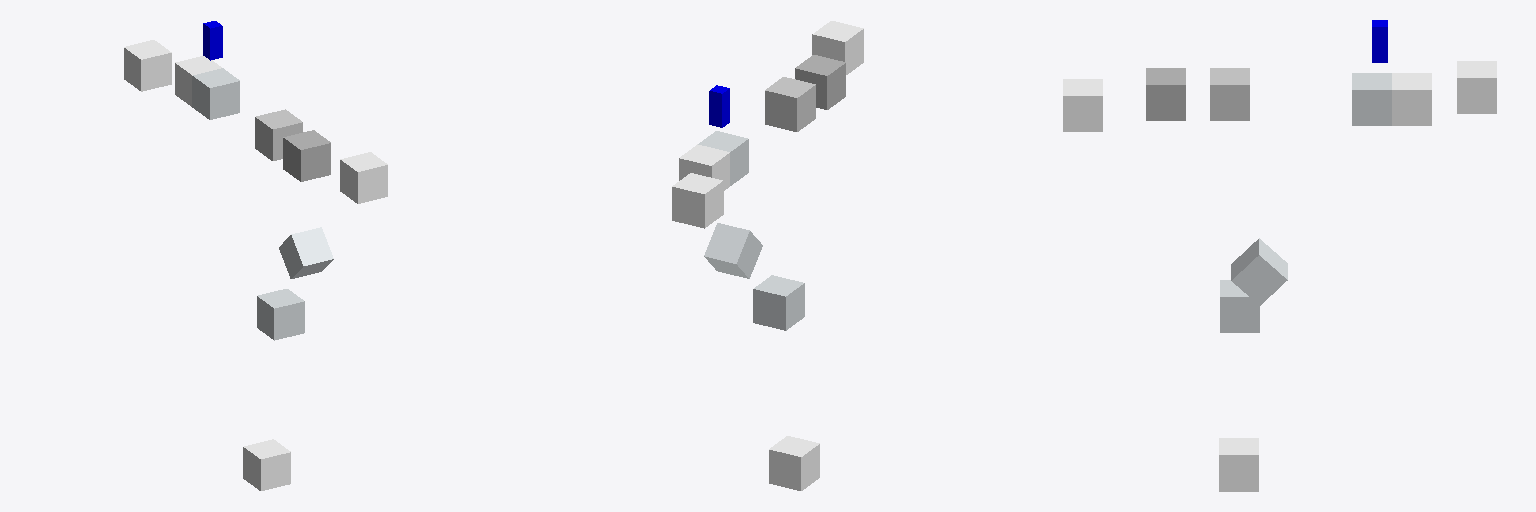
URDF robot description (wust_seven_axis_arm_description):
<?xml version="1.0" encoding="utf-8"?>
<!-- This URDF was automatically created by SolidWorks to URDF Exporter! Originally created by Stephen Brawner (brawner@gmail.com) 
     Commit Version: 1.6.0-4-g7f85cfe  Build Version: 1.6.7995.38578
     For more information, please see http://wiki.ros.org/sw_urdf_exporter -->
<robot
  name="wust_seven_axis_arm_description">
  <link
    name="base_link">
    <inertial>
      <origin
        xyz="0.022966 -0.114 -0.178491"
        rpy="0 0 0" />
      <mass
        value="77.643" />
      <inertia
        ixx="2.5225"
        ixy="9.3836E-17"
        ixz="7.3364E-17"
        iyy="4.4493"
        iyz="9.0781E-17"
        izz="2.5996" />
    </inertial>
    <visual>
      <origin
        xyz="0 0 -0.23"
        rpy="0 0 0" />
      <geometry>
        <box size="0.05 0.05 0.05"/>
      </geometry>
      <material
        name="">
        <color
          rgba="1 1 1 1" />
      </material>
    </visual>
    <collision>
      <origin
        xyz="0 0 -0.23"
        rpy="0 0 0" />
      <geometry>
        <box size="0.05 0.05 0.05"/>
      </geometry>
    </collision>
  </link>
  <link
    name="LINK1">
    <inertial>
      <origin
        xyz="-0.026552 0.004322 0.047909"
        rpy="0 0 0" />
      <mass
        value="1.1303" />
      <inertia
        ixx="0.0010196"
        ixy="-3.0364E-05"
        ixz="5.3201E-05"
        iyy="0.0020387"
        iyz="-1.8449E-08"
        izz="0.0018577" />
    </inertial>
    <visual>
      <origin
        xyz="0 0 0"
        rpy="0 0 0" />
      <geometry>
        <box size="0.05 0.05 0.05"/>
      </geometry>
      <material
        name="">
        <color
          rgba="0.89804 0.91765 0.92941 1" />
      </material>
    </visual>
    <collision>
      <origin
        xyz="0 0 0"
        rpy="0 0 0" />
      <geometry>
        <box size="0.05 0.05 0.05"/>
      </geometry>
    </collision>
  </link>
  <joint
    name="joint1"
    type="revolute">
    <origin
      xyz="0.022966 0.0012471 0"
      rpy="0 0 1.5708" />
    <parent
      link="base_link" />
    <child
      link="LINK1" />
    <axis
      xyz="0 0 1" />
    <limit
      lower="-3.14"
      upper="3.14"
      effort="80"
      velocity="3.14" />
  </joint>
  <link
    name="LINK2">
    <inertial>
      <origin
        xyz="0.16906 -0.0066264 -0.00043466"
        rpy="0 0 0" />
      <mass
        value="1.9471" />
      <inertia
        ixx="0.0013615"
        ixy="4.8371E-05"
        ixz="3.9307E-05"
        iyy="0.005887"
        iyz="7.7012E-09"
        izz="0.0068802" />
    </inertial>
    <visual>
      <origin
        xyz="0 0 0"
        rpy="0 0 0" />
      <geometry>
        <box size="0.05 0.05 0.05"/>
      </geometry>
      <material
        name="">
        <color
          rgba="0.89804 0.91765 0.92941 1" />
      </material>
    </visual>
    <collision>
      <origin
        xyz="0 0 0"
        rpy="0 0 0" />
      <geometry>
        <box size="0.05 0.05 0.05"/>
      </geometry>
    </collision>
  </link>
  <joint
    name="joint2"
    type="revolute">
    <origin
      xyz="0.024226 -0.0557 0.073"
      rpy="1.5708 -0.77059 3.1416" />
    <parent
      link="LINK1" />
    <child
      link="LINK2" />
    <axis
      xyz="0 0 1" />
    <limit
      lower="-3.14"
      upper="3.14"
      effort="40"
      velocity="3.14" />
  </joint>
  <link
    name="LINK3">
    <inertial>
      <origin
        xyz="0.014466 0.09077 -0.077009"
        rpy="0 0 0" />
      <mass
        value="1.4032" />
      <inertia
        ixx="0.0014059"
        ixy="-3.2931E-05"
        ixz="-1.2576E-06"
        iyy="0.0019115"
        iyz="2.0188E-06"
        izz="0.0014793" />
    </inertial>
    <visual>
      <origin
        xyz="0 0 0"
        rpy="0 0 0" />
      <geometry>
        <box size="0.05 0.05 0.05"/>
      </geometry>
      <material
        name="">
        <color
          rgba="1 1 1 1" />
      </material>
    </visual>
    <collision>
      <origin
        xyz="0 0 0"
        rpy="0 0 0" />
      <geometry>
        <box size="0.05 0.05 0.05"/>
      </geometry>
    </collision>
  </link>
  <joint
    name="joint3"
    type="revolute">
    <origin
      xyz="0.308 0 0.0328"
      rpy="-3.1416 0 2.371" />
    <parent
      link="LINK2" />
    <child
      link="LINK3" />
    <axis
      xyz="0 0 1" />
    <limit
      lower="-3.14"
      upper="3.14"
      effort="2.5"
      velocity="3.14" />
  </joint>
  <link
    name="LINK4">
    <inertial>
      <origin
        xyz="-5.508E-06 -0.00055068 0.027375"
        rpy="0 0 0" />
      <mass
        value="0.43034" />
      <inertia
        ixx="0.00013372"
        ixy="1.1612E-08"
        ixz="-5.5872E-08"
        iyy="0.00016472"
        iyz="4.4027E-08"
        izz="0.00015709" />
    </inertial>
    <visual>
      <origin
        xyz="0 0 0"
        rpy="0 0 0" />
      <geometry>
        <box size="0.05 0.05 0.05"/>
      </geometry>
      <material
        name="">
        <color
          rgba="0.75294 0.75294 0.75294 1" />
      </material>
    </visual>
    <collision>
      <origin
        xyz="0 0 0"
        rpy="0 0 0" />
      <geometry>
        <box size="0.05 0.05 0.05"/>
      </geometry>
    </collision>
  </link>
  <joint
    name="joint4"
    type="revolute">
    <origin
      xyz="0.104 0 -0.033"
      rpy="1.5708 0 1.5708" />
    <parent
      link="LINK3" />
    <child
      link="LINK4" />
    <axis
      xyz="0 0 1" />
    <limit
      lower="-3.14"
      upper="3.14"
      effort="2.5"
      velocity="3.14" />
  </joint>
  <link
    name="LINK5">
    <inertial>
      <origin
        xyz="0.070446 0.0035509 -0.0055136"
        rpy="0 0 0" />
      <mass
        value="0.47533" />
      <inertia
        ixx="0.00016986"
        ixy="-1.6752E-05"
        ixz="1.3562E-06"
        iyy="0.00043792"
        iyz="1.0511E-08"
        izz="0.0004231" />
    </inertial>
    <visual>
      <origin
        xyz="0 0 0"
        rpy="0 0 0" />
      <geometry>
        <box size="0.05 0.05 0.05"/>
      </geometry>
      <material
        name="">
        <color
          rgba="0.84706 0.84706 0.84706 1" />
      </material>
    </visual>
    <collision>
      <origin
        xyz="0 0 0"
        rpy="0 0 0" />
      <geometry>
        <box size="0.05 0.05 0.05"/>
      </geometry>
    </collision>
  </link>
  <joint
    name="joint5"
    type="revolute">
    <origin
      xyz="0 0 0.08"
      rpy="1.5708 -1.5708 0" />
    <parent
      link="LINK4" />
    <child
      link="LINK5" />
    <axis
      xyz="0 0 1" />
    <limit
      lower="-3.14"
      upper="3.14"
      effort="2.5"
      velocity="3.14" />
  </joint>
  <link
    name="LINK6">
    <inertial>
      <origin
        xyz="5.2854E-05 -0.029295 -0.0065583"
        rpy="0 0 0" />
      <mass
        value="0.27211" />
      <inertia
        ixx="0.0001518"
        ixy="3.525E-08"
        ixz="6.9829E-09"
        iyy="0.00016171"
        iyz="6.8965E-07"
        izz="0.00011201" />
    </inertial>
    <visual>
      <origin
        xyz="0 0 0"
        rpy="0 0 0" />
      <geometry>
        <box size="0.05 0.05 0.05"/>
      </geometry>
      <material
        name="">
        <color
          rgba="0.89804 0.91765 0.92941 1" />
      </material>
    </visual>
    <collision>
      <origin
        xyz="0 0 0"
        rpy="0 0 0" />
      <geometry>
        <box size="0.05 0.05 0.05"/>
      </geometry>
    </collision>
  </link>
  <joint
    name="joint6"
    type="revolute">
    <origin
      xyz="0.178 0.0073 0"
      rpy="1.5708 -1.5708 3.14159" />
    <parent
      link="LINK5" />
    <child
      link="LINK6" />
    <axis
      xyz="0 0 1" />
    <limit
      lower="-3.14"
      upper="3.14"
      effort="2.5"
      velocity="3.14" />
  </joint>
  <link
    name="LINK7">
    <inertial>
      <origin
        xyz="2.4977E-05 -3.5319E-06 0.022282"
        rpy="0 0 0" />
      <mass
        value="0.21341" />
      <inertia
        ixx="2.1719E-05"
        ixy="3.2824E-10"
        ixz="-7.9769E-09"
        iyy="7.1028E-05"
        iyz="-6.2441E-11"
        izz="8.0769E-05" />
    </inertial>
    <visual>
      <origin
        xyz="0 0 0"
        rpy="0 0 0" />
      <geometry>
        <box size="0.05 0.05 0.05"/>
      </geometry>
      <material
        name="">
        <color
          rgba="1 1 1 1" />
      </material>
    </visual>
    <collision>
      <origin
        xyz="0 0 0"
        rpy="0 0 0" />
      <geometry>
        <box size="0.05 0.05 0.05"/>
      </geometry>
    </collision>
  </link>
  <joint
    name="joint7"
    type="revolute">
    <origin
      xyz="0 0.0495 0"
      rpy="1.5708 0 0" />
    <parent
      link="LINK6" />
    <child
      link="LINK7" />
    <axis
      xyz="0 0 1" />
    <limit
      lower="-3.14"
      upper="3.14"
      effort="2"
      velocity="3.14" />
  </joint>
  <link
    name="LINK_TCP">
    <inertial>
      <origin
        xyz="0.0366 -2.3873E-07 -0.062382"
        rpy="0 0 0" />
      <mass
        value="0.21539" />
      <inertia
        ixx="0.00011732"
        ixy="1.5822E-06"
        ixz="-2.2157E-20"
        iyy="0.00011326"
        iyz="-1.1766E-19"
        izz="9.8913E-05" />
    </inertial>
    <visual>
      <origin
        xyz="0 0 0"
        rpy="0 0 0" />
      <geometry>
        <box size="0.05 0.05 0.05"/>
      </geometry>
      <material
        name="">
        <color
          rgba="1 1 1 1" />
      </material>
    </visual>
    <collision>
      <origin
        xyz="0 0 0"
        rpy="0 0 0" />
      <geometry>
        <box size="0.05 0.05 0.05"/>
      </geometry>
    </collision>
  </link>
  <joint
    name="vacuum_tcp"
    type="fixed">
    <origin
      xyz="0.0366 0 -0.081603"
      rpy="3.1416 0 3.1416" />
    <parent
      link="LINK7" />
    <child
      link="LINK_TCP" />
    <axis
      xyz="0 0 0" />
  </joint>
  
  <link name="camera_link">
    <visual>
      <geometry>
        <box size="0.02 0.05 0.02"/>
      </geometry>
      <material name="blue">
        <color rgba="0 0 1 1"/>
      </material>
    </visual>
  </link>

  <joint name="camera_joint" type="fixed">
    <parent link="LINK7"/>
    <child link="camera_link"/>
    <origin xyz="0 -0.08 0.04" rpy="3.1416 0 3.1416"/> 
  </joint>

<link name="camera_optical_frame"/>
  <joint name="camera_optical_joint" type="fixed">
    <parent link="camera_link"/>
    <child link="camera_optical_frame"/> 
    <origin xyz="0 0 0" rpy="0 0 0"/>
  </joint>
</robot>

--- What the picture shows (computed from the rendered views, not written in the file) ---
Views: 3 orthographic renders of the robot side by side, from view 1: azimuth 30°, elevation 25°; view 2: azimuth 150°, elevation 25°; view 3: azimuth 270°, elevation 25°.
Robot: wust_seven_axis_arm_description — 11 links, 10 joints (7 revolute, 3 fixed); root link base_link; default pose: all joints at 0.
Visible links, largest first — view 1: LINK4, base_link, LINK1, LINK_TCP, LINK3, LINK6, LINK2, LINK5, LINK7, camera_link; view 2: LINK_TCP, LINK1, LINK5, base_link, LINK2, LINK3, LINK4, LINK7, LINK6, camera_link; view 3: LINK2, base_link, LINK3, LINK4, LINK5, LINK6, LINK7, LINK_TCP, LINK1, camera_link.
Boxes of the visible links, x1,y1,x2,y2 form: LINK4: (283,130,330,181); base_link: (243,439,290,490); LINK1: (257,289,304,340); LINK_TCP: (124,40,171,91); LINK3: (340,152,387,203); LINK6: (192,68,239,119); LINK2: (279,227,333,278); LINK5: (255,109,302,160); LINK7: (175,56,221,106); camera_link: (203,21,222,60); LINK_TCP: (672,173,723,228); LINK1: (753,275,804,330); LINK5: (765,77,815,131); base_link: (769,436,819,490); LINK2: (704,223,762,278); LINK3: (812,21,863,74); LINK4: (795,55,845,109); LINK7: (679,144,729,190); LINK6: (698,131,748,185); camera_link: (709,85,729,127); LINK2: (1231,238,1287,305); base_link: (1219,438,1258,491); LINK3: (1063,79,1102,131); LINK4: (1146,68,1185,120); LINK5: (1210,68,1249,120); LINK6: (1352,73,1391,125); LINK7: (1392,73,1431,125); LINK_TCP: (1457,61,1496,113); LINK1: (1220,280,1259,332); camera_link: (1372,20,1387,62).
Bounding box of the posed robot: 0.1524 × 0.5431 × 0.6402 m (x, y, z).
Geometry: primitives only (box / cylinder / sphere), no mesh files.
